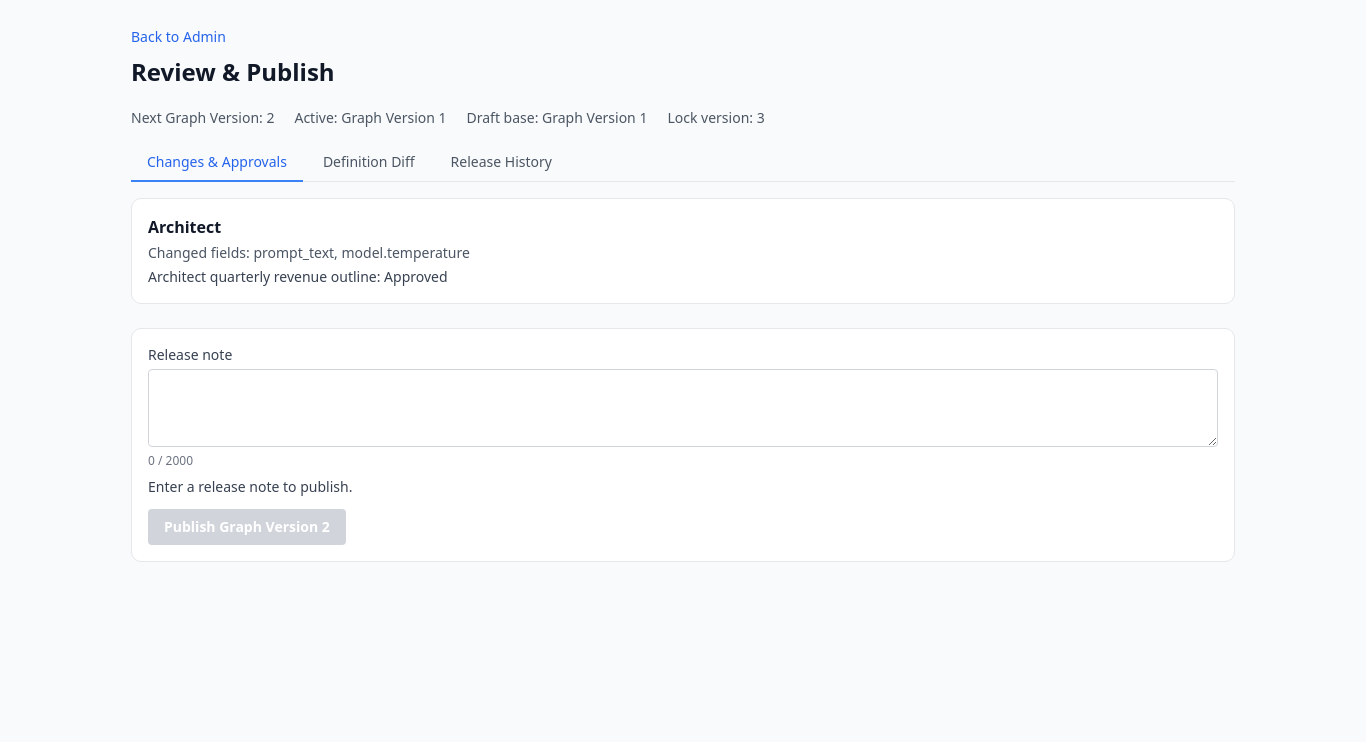
Test case: Release History: the rollback preview › disables Confirm rollback on a blocked preview and lists its issues
expect the text "Next Graph Version: 2" is shown: met, box x1=131 y1=108 x2=274 y2=128
Click the tab with test id "release-history-tab" at [501, 163], box x1=435 y1=144 x2=568 y2=182
(page scrolled)
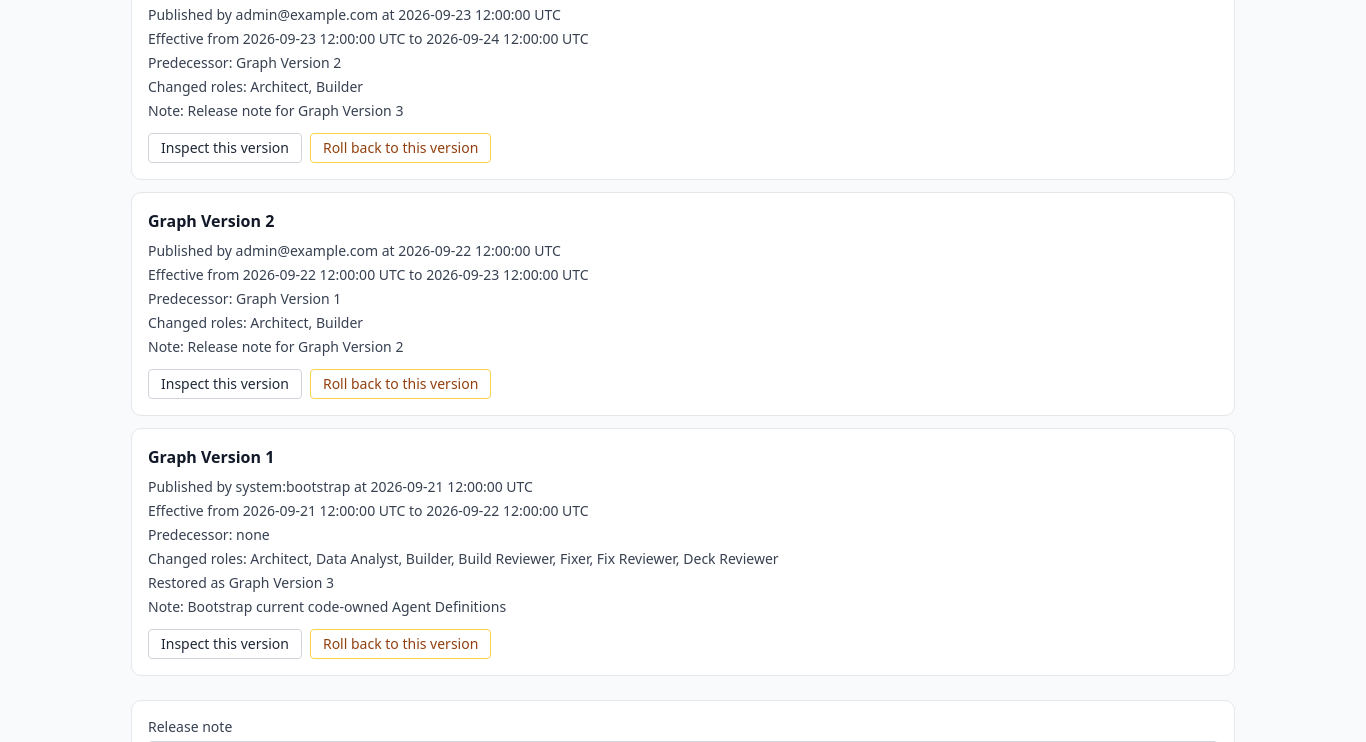
Click the button "Roll back to this version" below "Predecessor: Graph Version 1" at [401, 384], box x1=310 y1=369 x2=491 y2=399
(page scrolled)
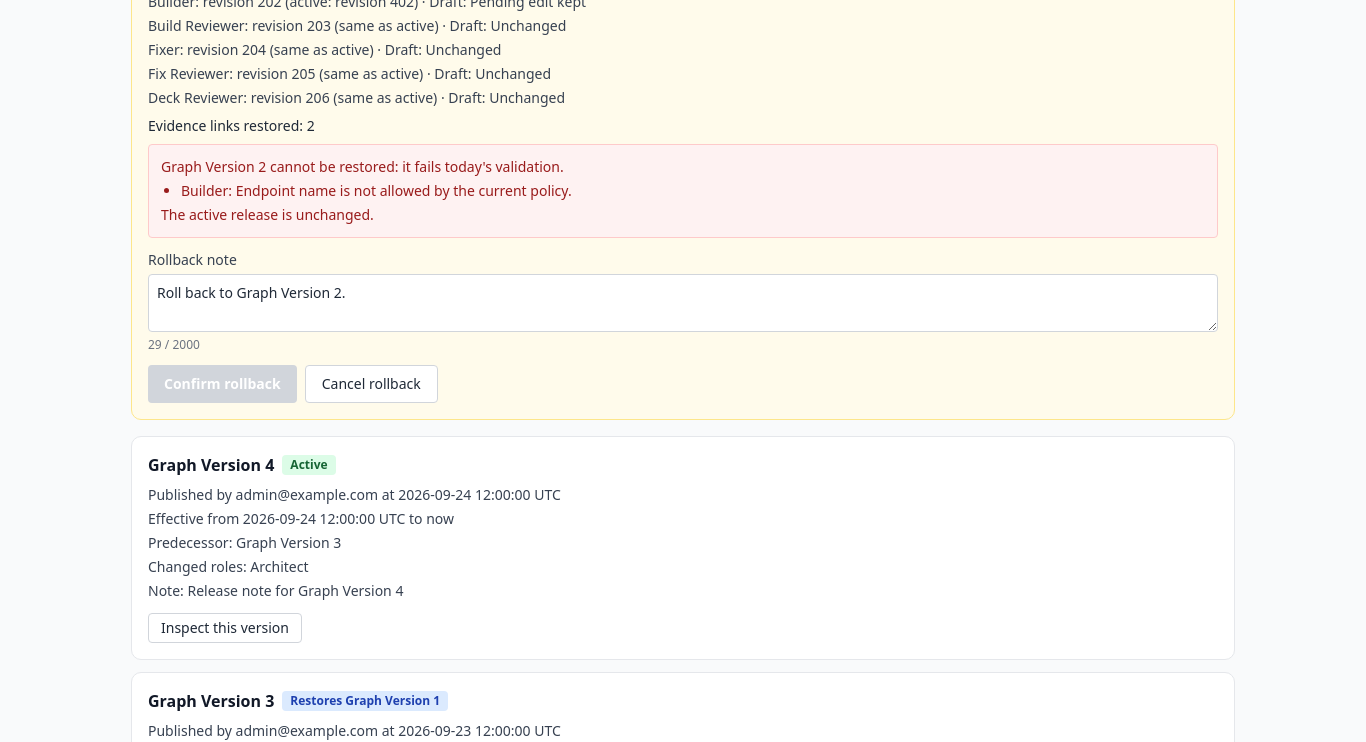
expect the message with test id "rollback-blocked-panel" shows "Graph Version 2 cannot be restored: it fails today's validation.": met, box x1=161 y1=157 x2=564 y2=176
expect the list named "Rollback issues" reads "Builder: Endpoint name is not allowed by the current policy.": met, box x1=181 y1=181 x2=572 y2=200
expect the message with test id "rollback-blocked-panel" shows "The active release is unchanged.": met, box x1=161 y1=205 x2=374 y2=224
